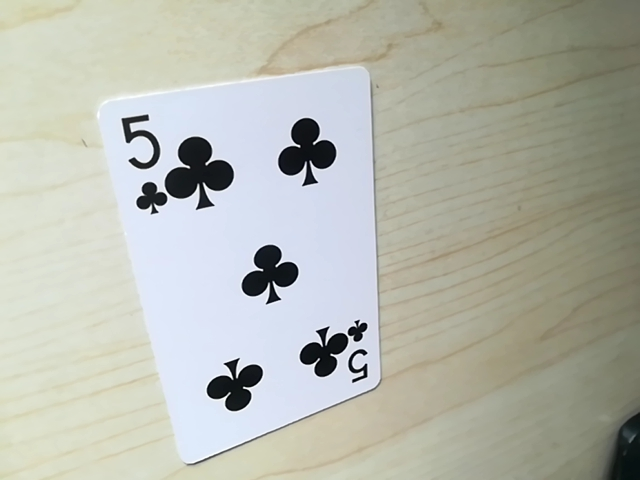mh 5: (115, 99, 177, 219), (333, 324, 376, 389)
